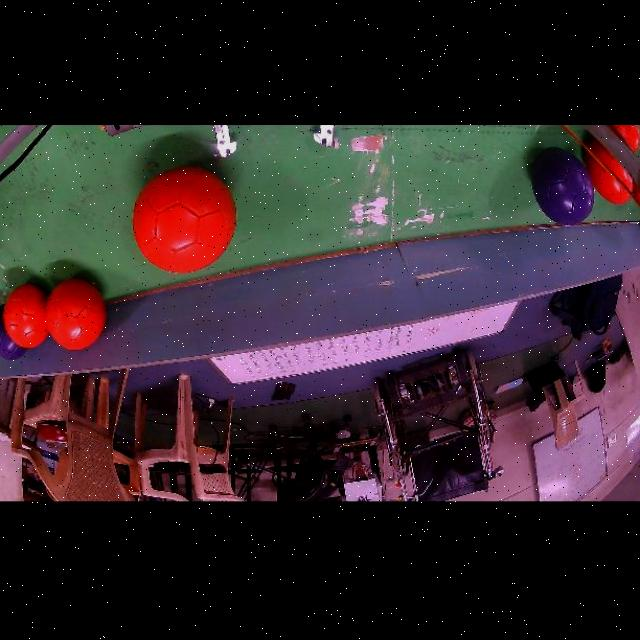P: (531, 148, 594, 227), (0, 306, 27, 361)
R: (133, 169, 236, 274), (45, 279, 105, 351), (585, 140, 633, 206), (3, 285, 49, 349), (614, 127, 640, 152)
